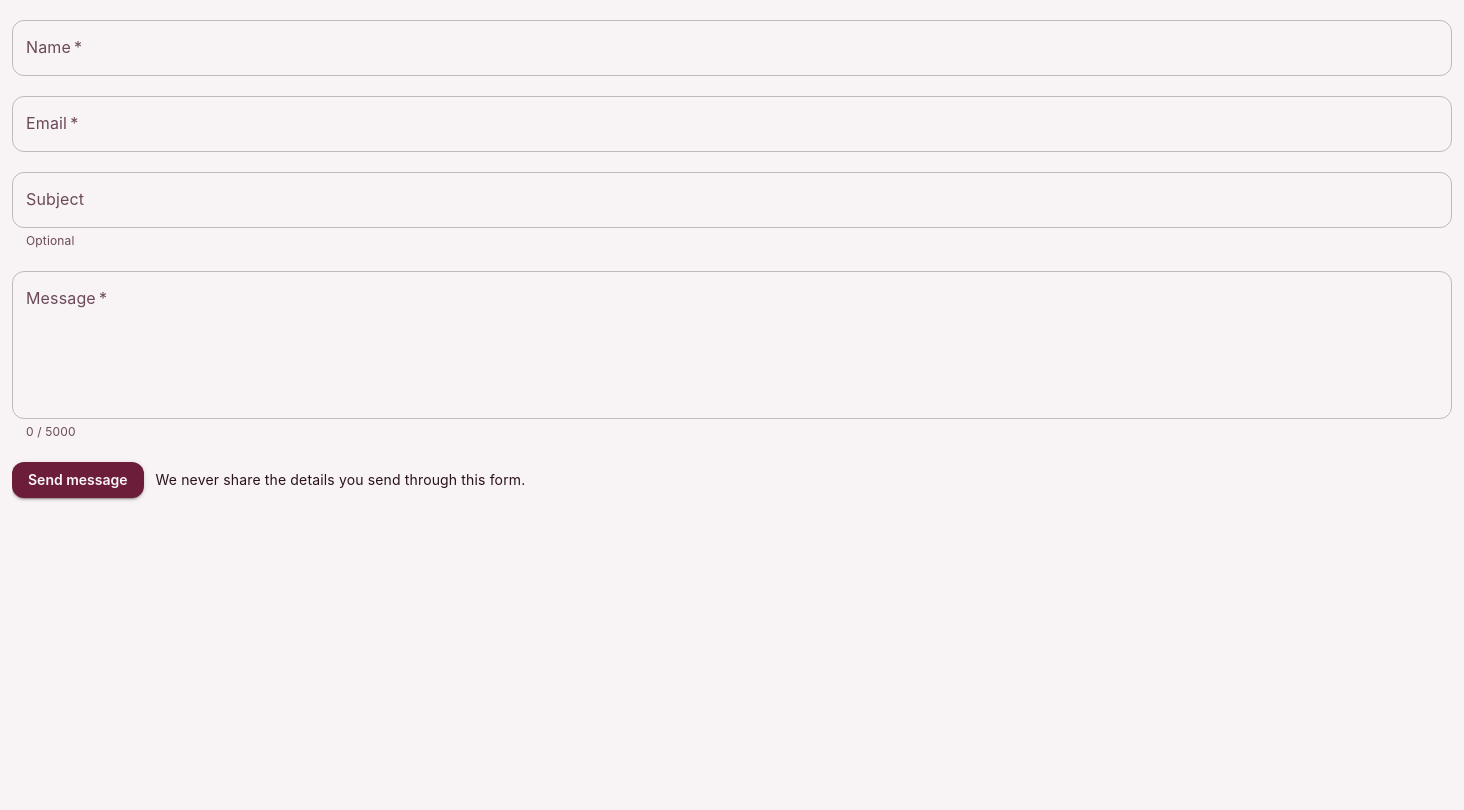
ContactForm › validates required fields and a basic email before submitting
Click the button with aria-label "Send contact message" at {"x": 78, "y": 480}, box [12,462,144,498]
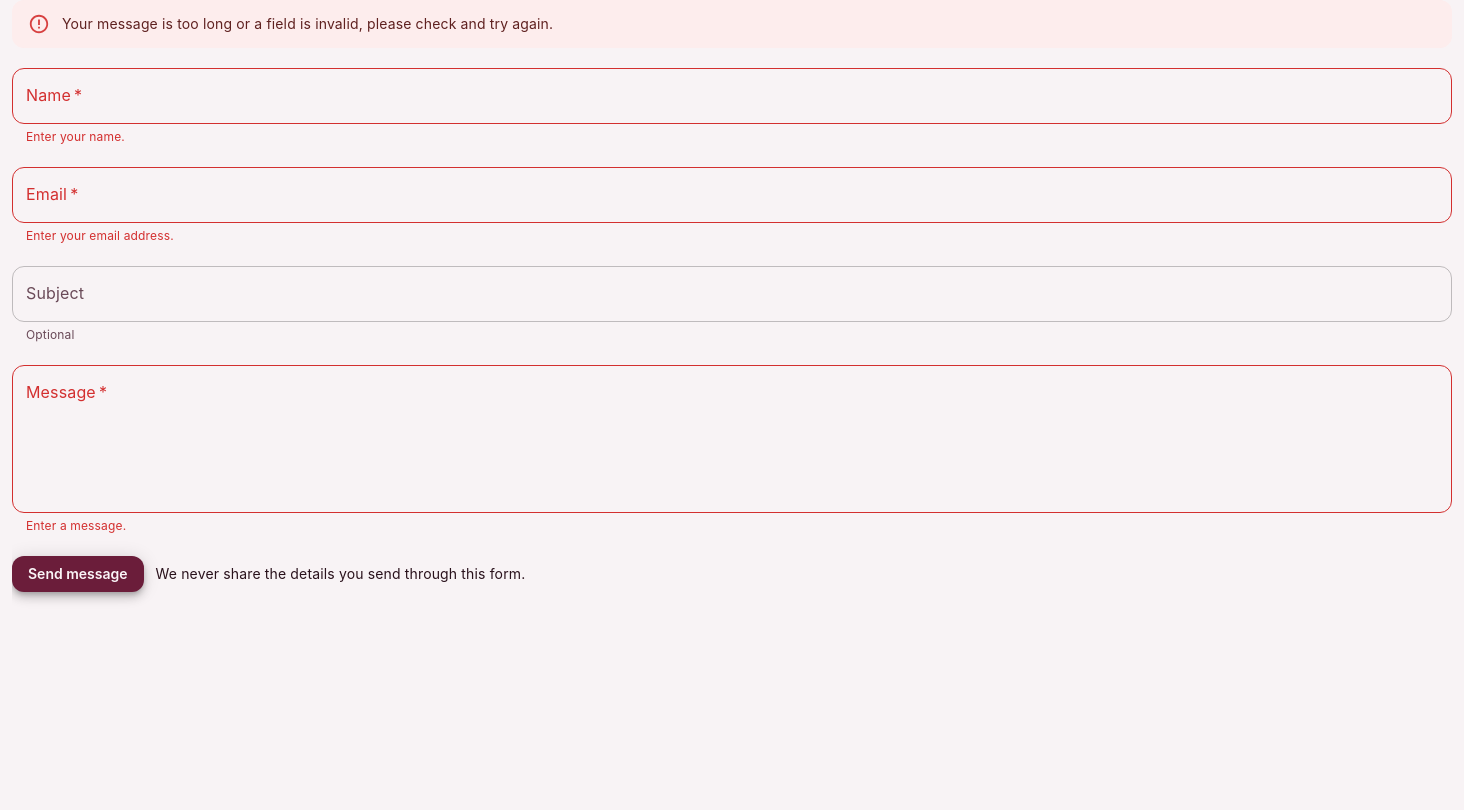
Expected: the text "Enter your name." is shown, [26,129,125,144]
Expected: the text "Enter your email address." is shown, [26,228,174,243]
Expected: the text "Enter a message." is shown, [26,518,126,533]
Type "Ada" into the field labelled "Name" at {"x": 732, "y": 96}, box [12,68,1452,124]
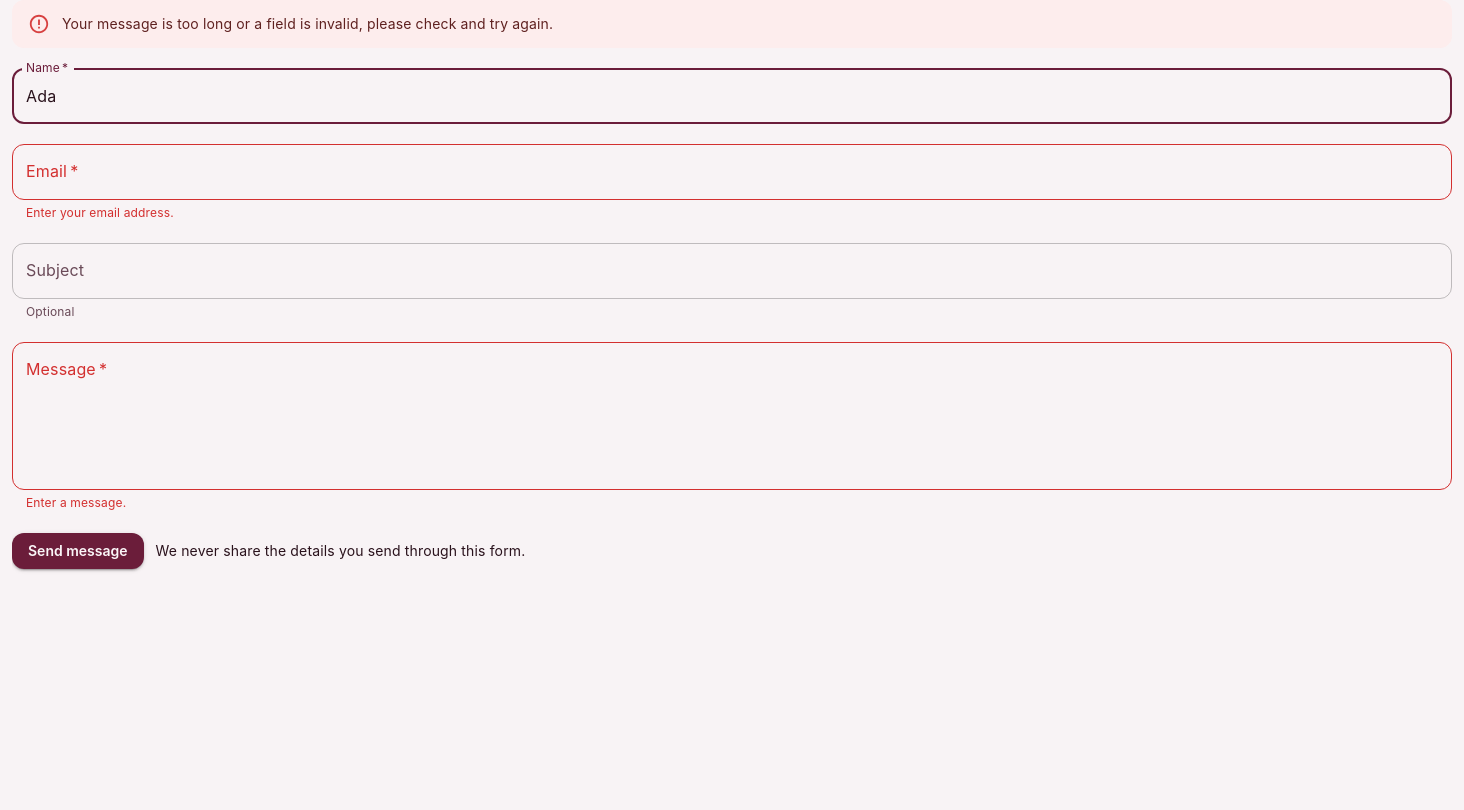
Type "not-an-email" into the field labelled "Email" at {"x": 732, "y": 172}, box [12,144,1452,200]
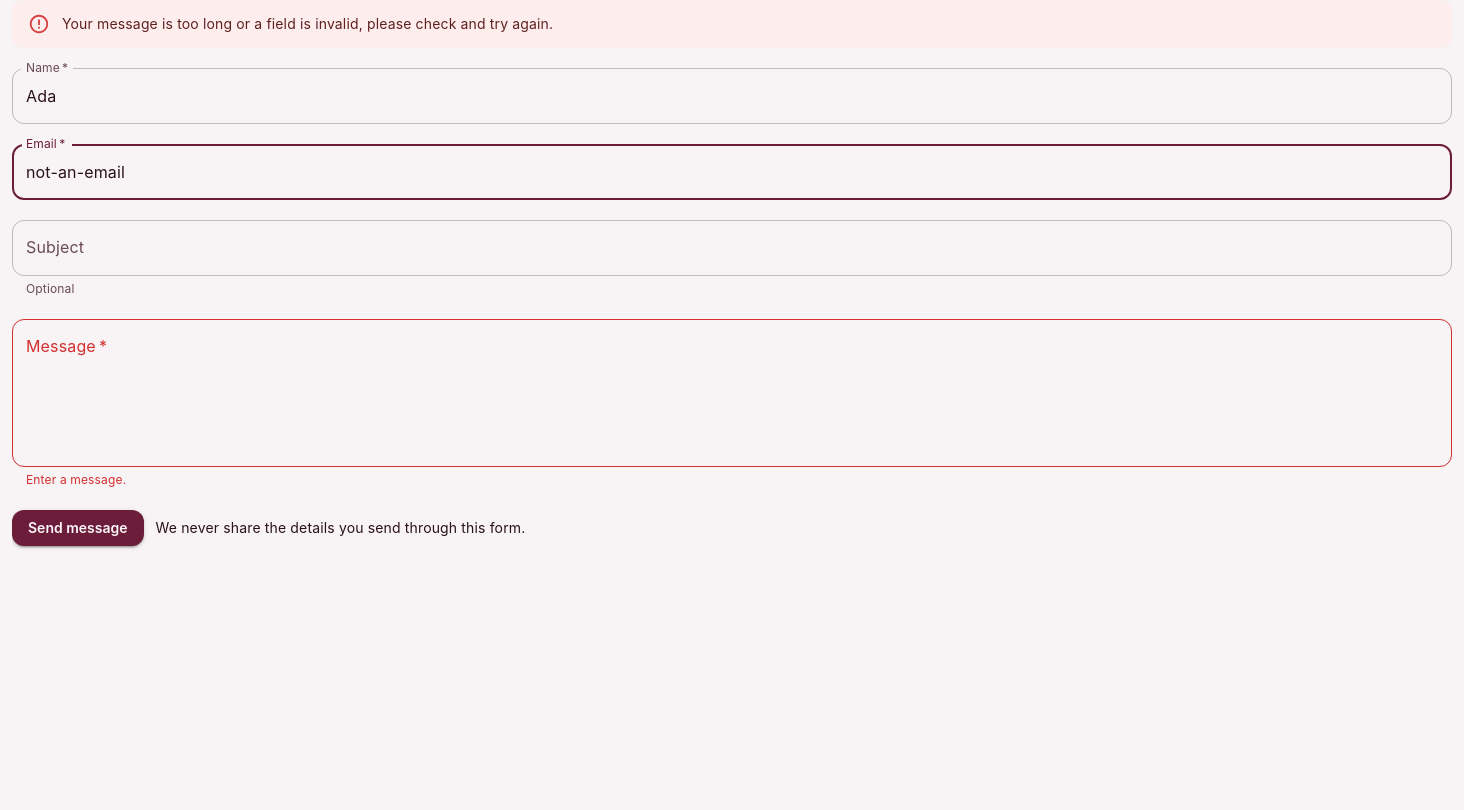
Type "Hello" into the text box labelled "Message" at {"x": 732, "y": 393}, box [26,335,1438,450]
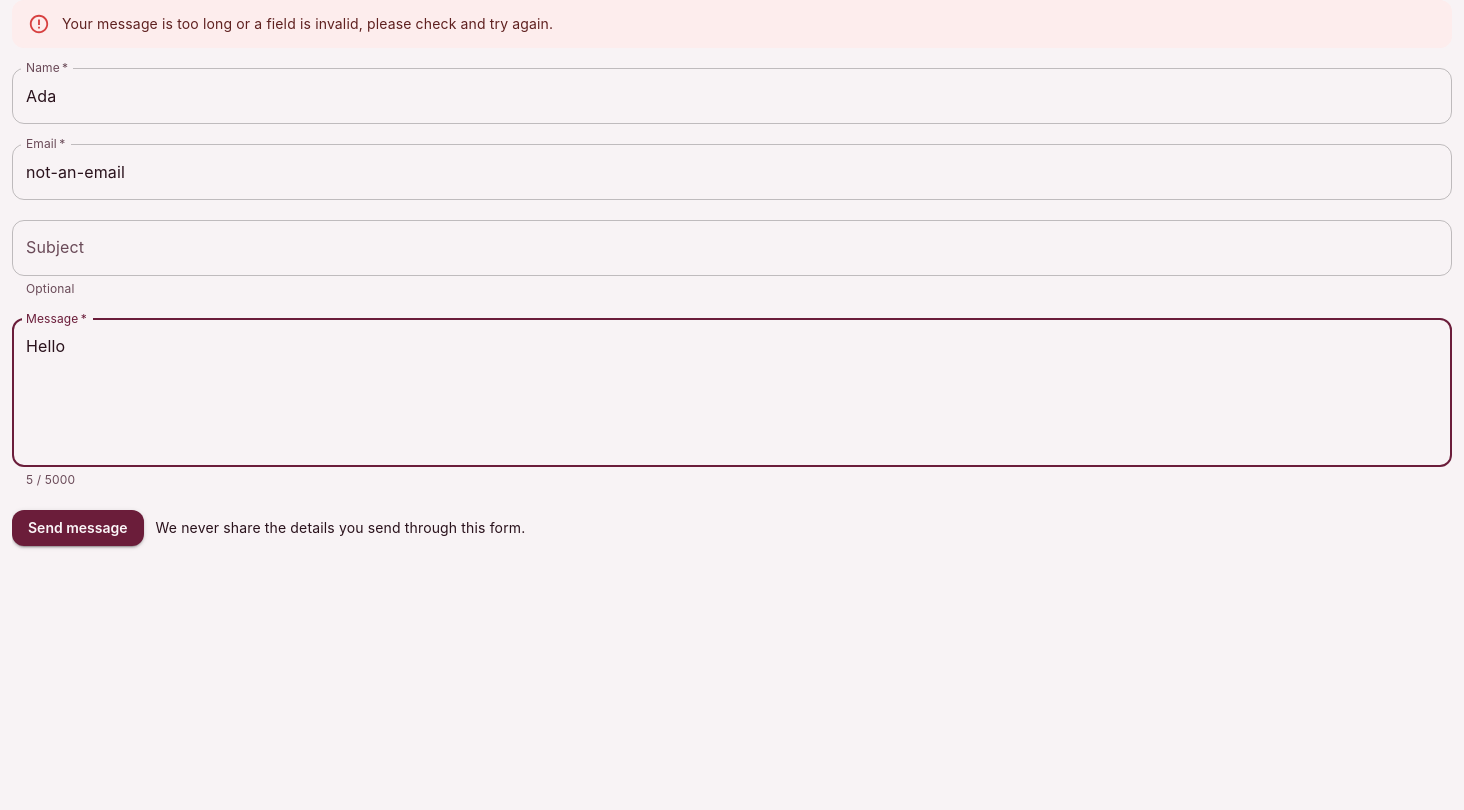
Click the button with aria-label "Send contact message" at {"x": 78, "y": 528}, box [12,510,144,546]
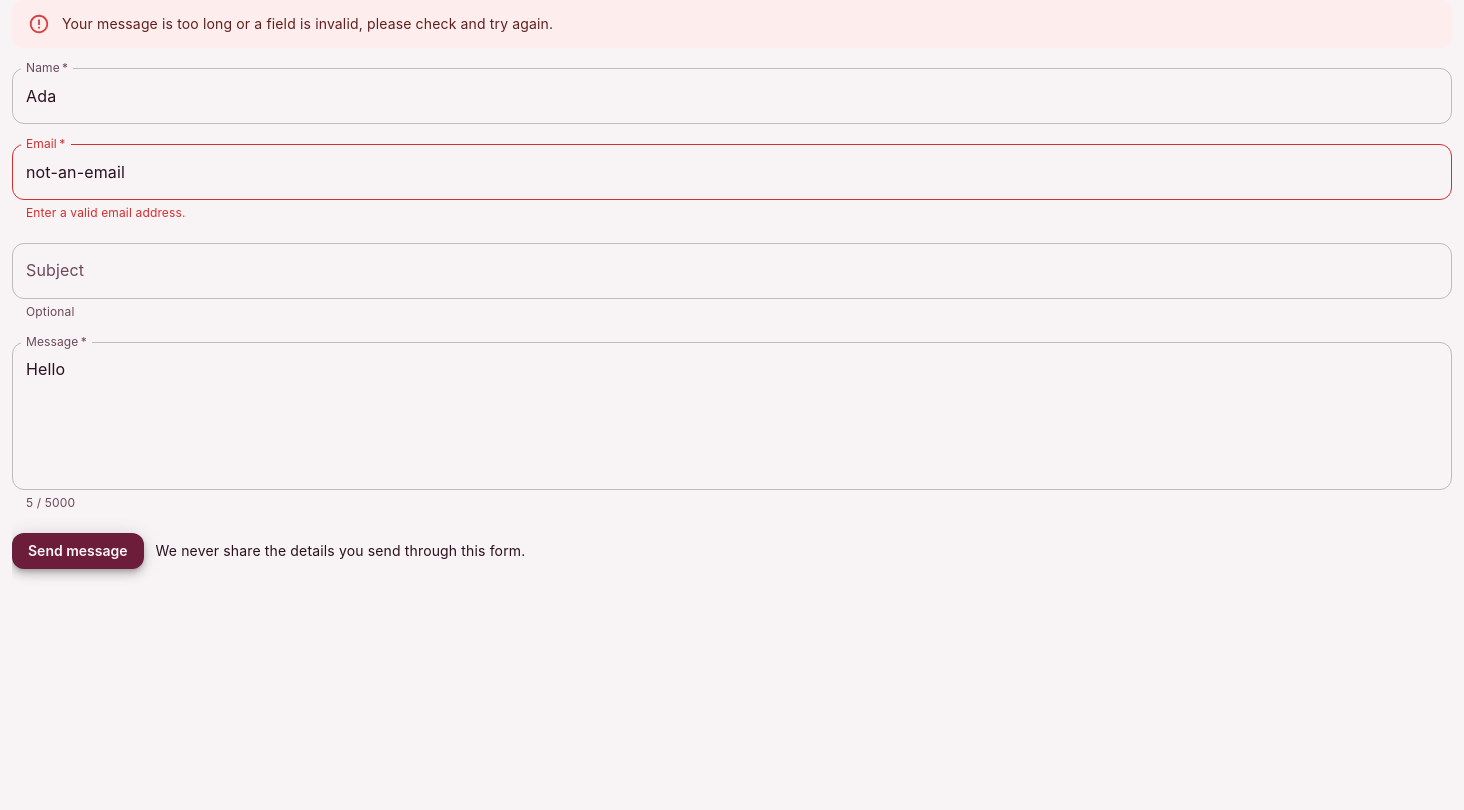
Expected: the text "Enter a valid email address." is shown, [26,205,186,220]
